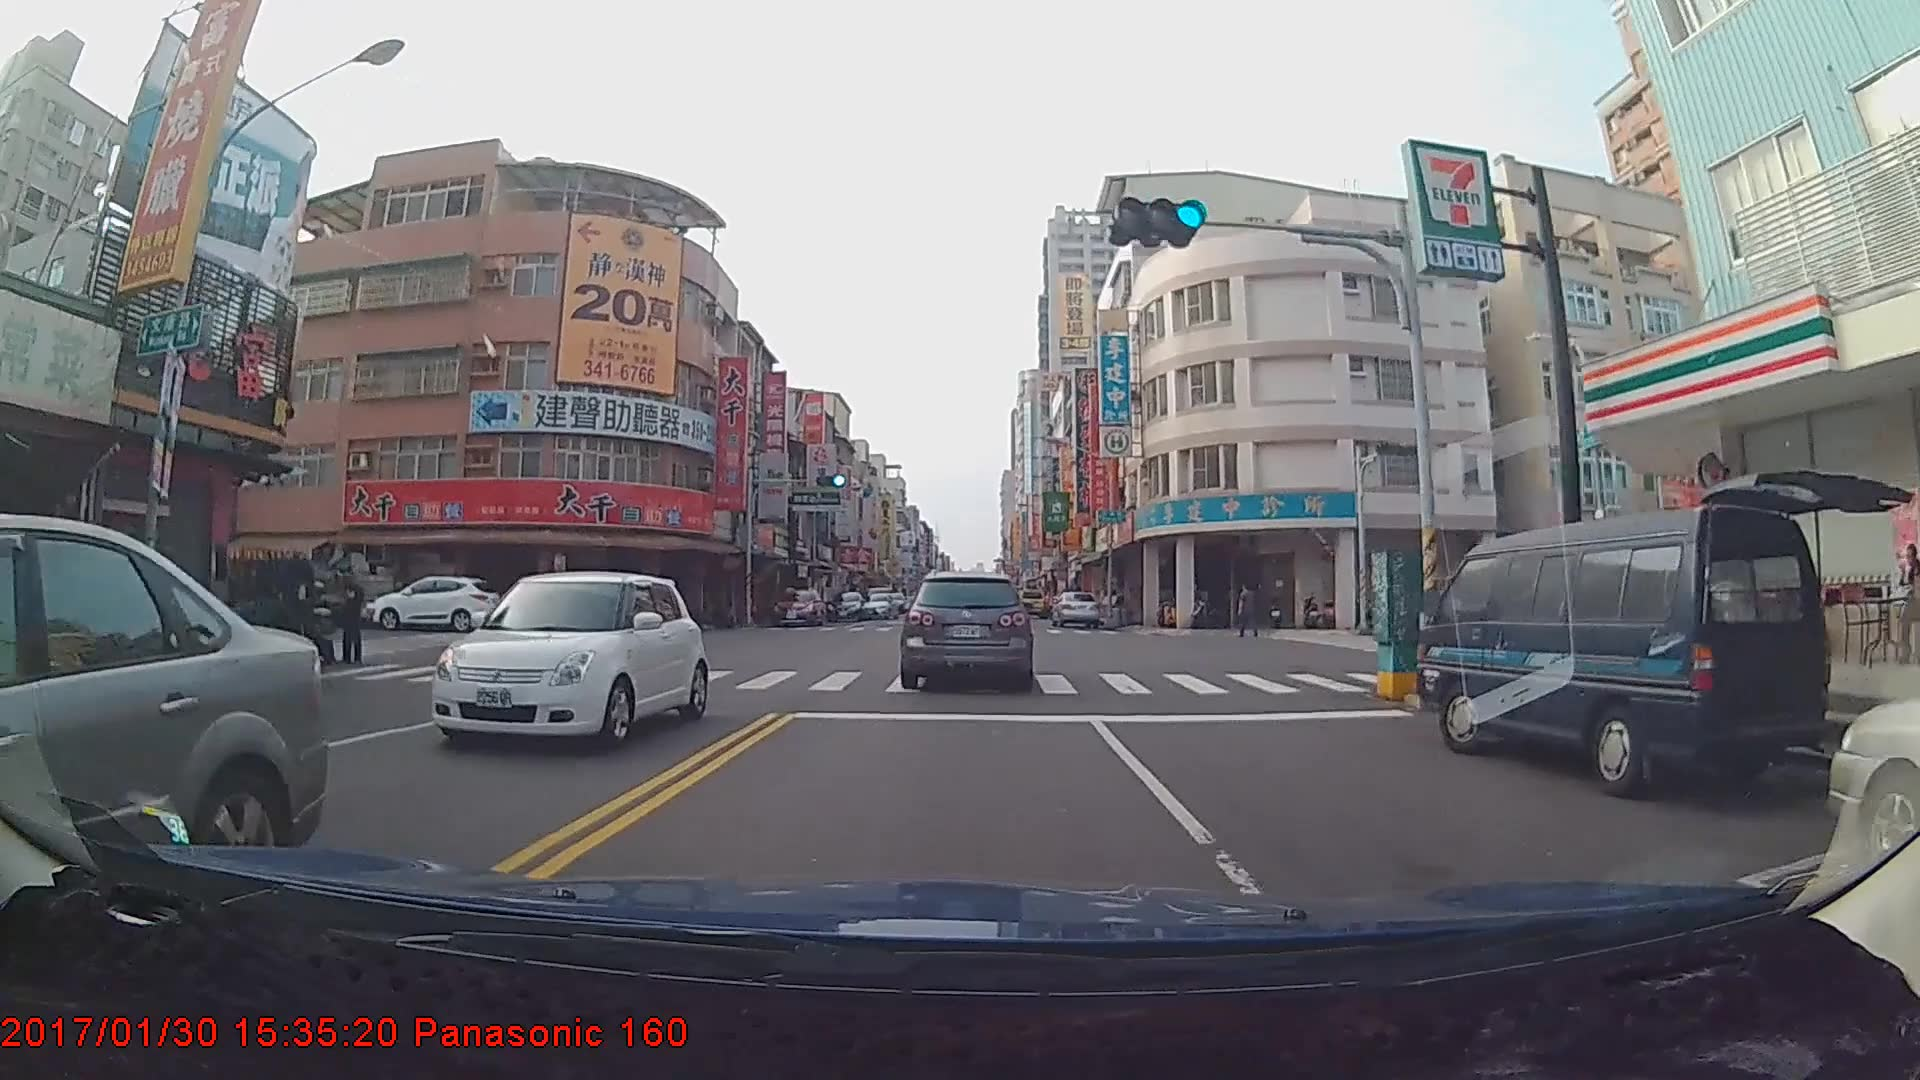pedestrian: (342, 582, 368, 667), (1237, 584, 1259, 640)
rider: (301, 570, 336, 668)
vehicle: (0, 510, 327, 932), (1415, 502, 1831, 801), (425, 563, 706, 750), (901, 569, 1033, 690), (366, 572, 499, 631), (1049, 588, 1101, 630), (771, 587, 821, 628), (827, 588, 867, 618), (1011, 582, 1045, 616), (860, 591, 898, 619)
